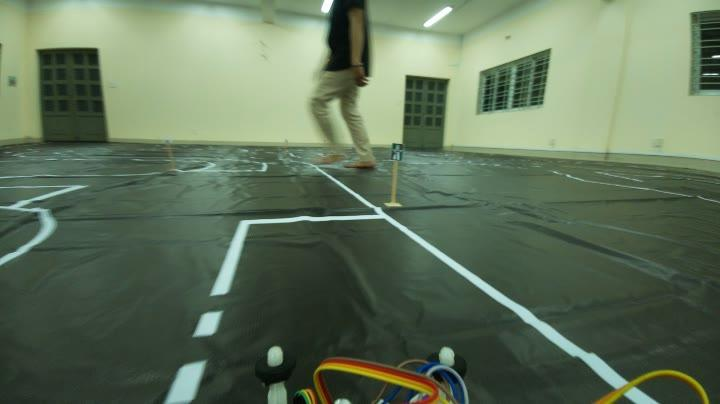highway_exit: (388, 138, 406, 166)
